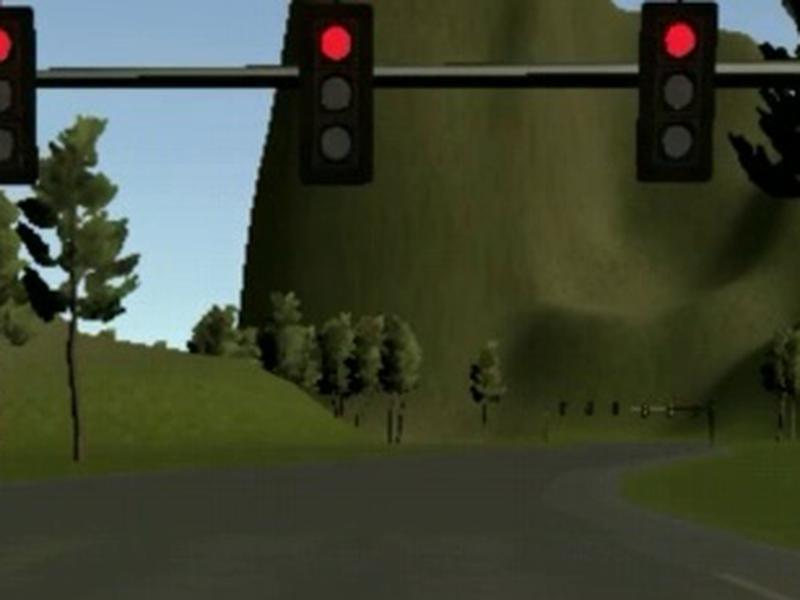Red: (636, 1, 719, 181), (301, 3, 375, 187), (1, 4, 39, 184)
